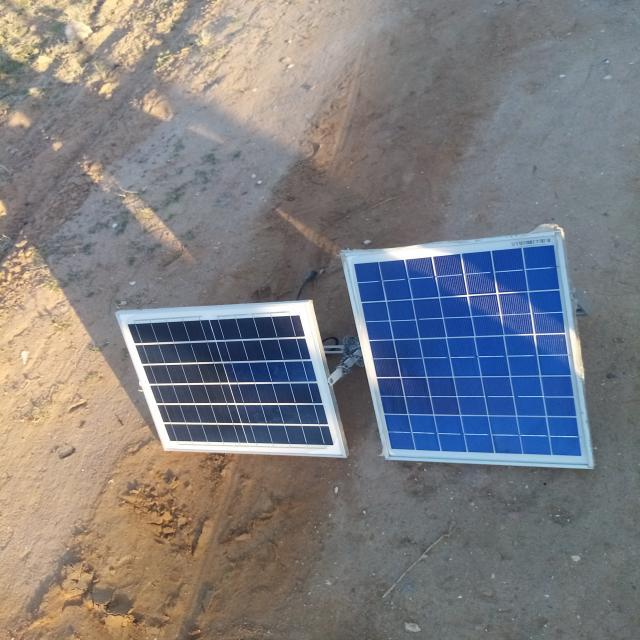no faulty: (349, 229, 591, 463), (111, 305, 347, 457)
